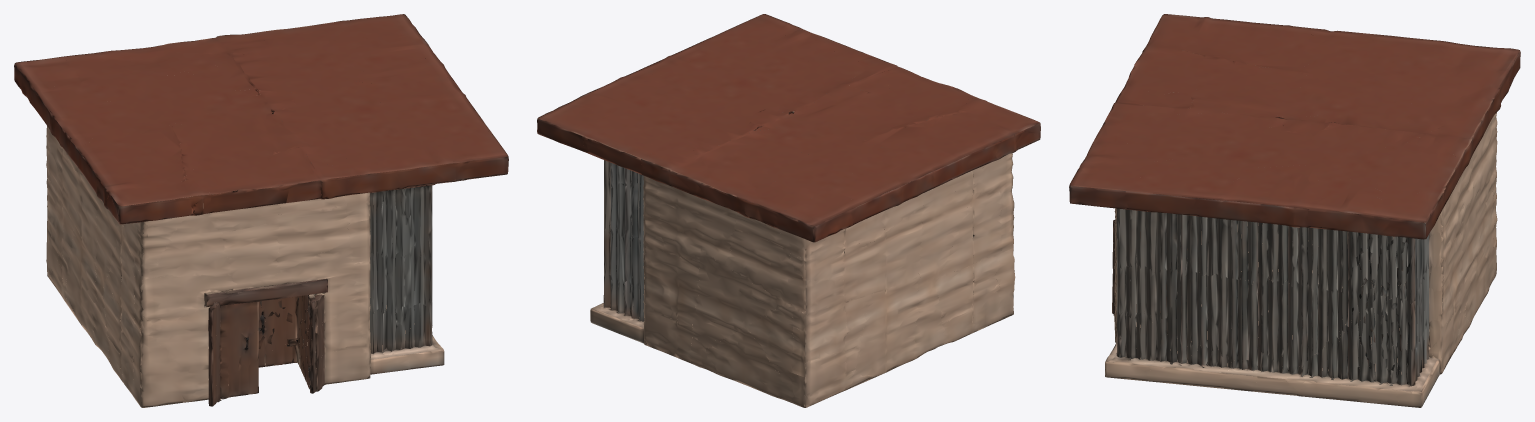
The model's file is gallery.glb.
The picture shows the model from 3 angles, left to right: view 1: azimuth 30°, elevation 25°; view 2: azimuth 150°, elevation 25°; view 3: azimuth 270°, elevation 25°; orthographic projection. The views are drawn at different scales.
Parts seen in each view (by area): view 1: LO.001; view 2: LO.001; view 3: LO.001.
Part boxes in pixels (<box>): LO.001: <box>14,14,508,407</box>; LO.001: <box>537,14,1040,407</box>; LO.001: <box>1069,14,1520,407</box>.
Size of the model in its own units: 2.21 by 1.09 by 2.04.
Materials: 1 (1 with a texture image).
